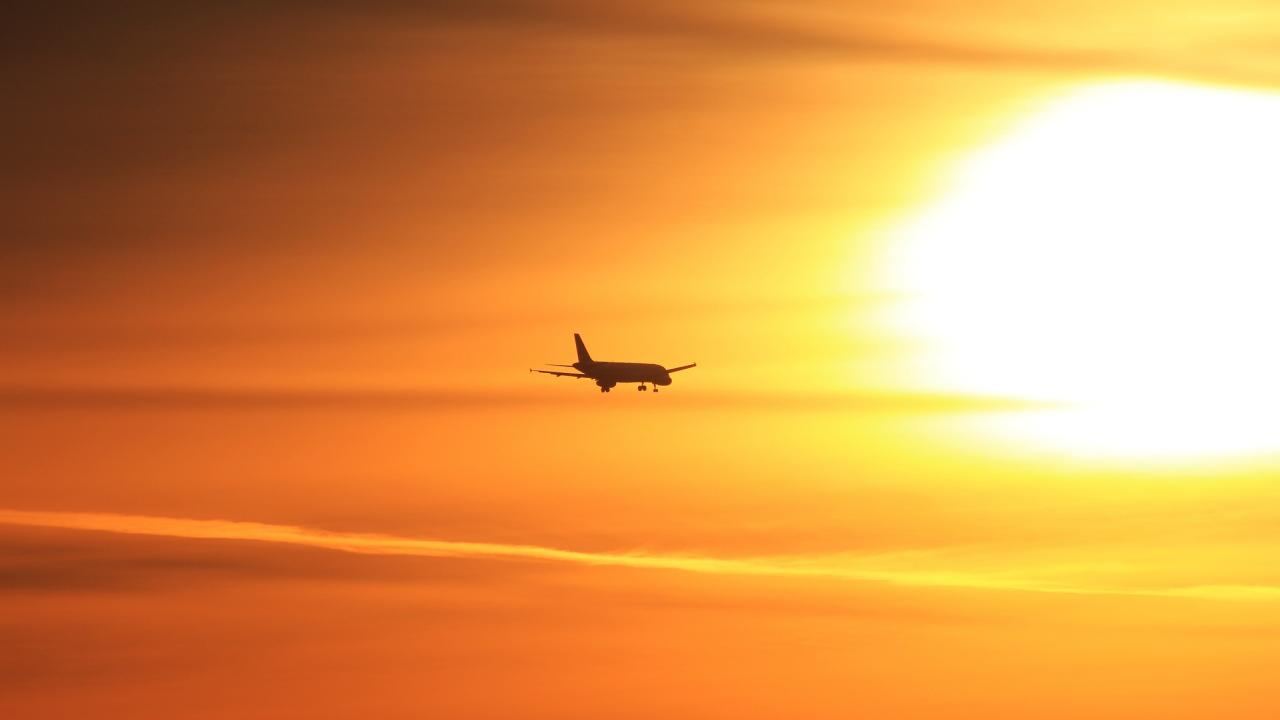Airplane: (516, 323, 703, 404)
